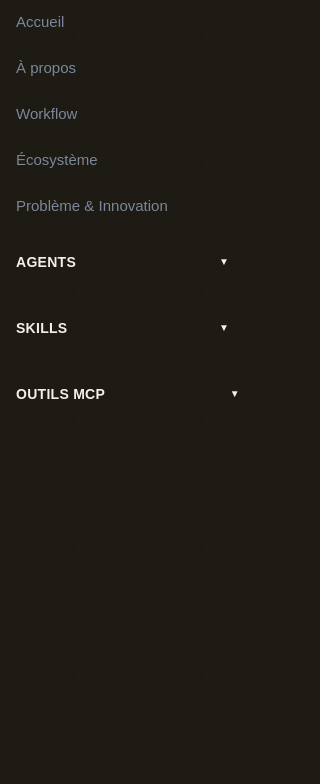
Test case: SidebarComponent › devrait basculer expanded et afficher les enfants au clic sur le chevron
The width and height of the screenshot is (320, 784).
Click the button with class "sidebar__expand-btn" next to "Agents" at (224, 262), box top-left (208, 246), bottom-right (240, 278)
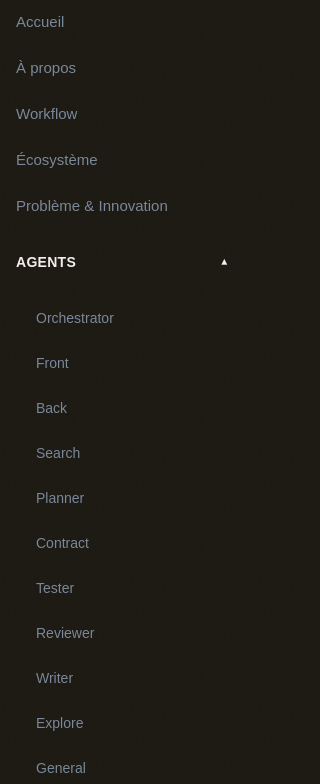
expect the list with class "sidebar__sublist" is shown: met, box top-left (36, 310), bottom-right (114, 776)
expect the number of links with class "sidebar__link--child" is 11: met
expect the link with class "sidebar__link--child" reads "Orchestrator": met, box top-left (36, 310), bottom-right (114, 326)
